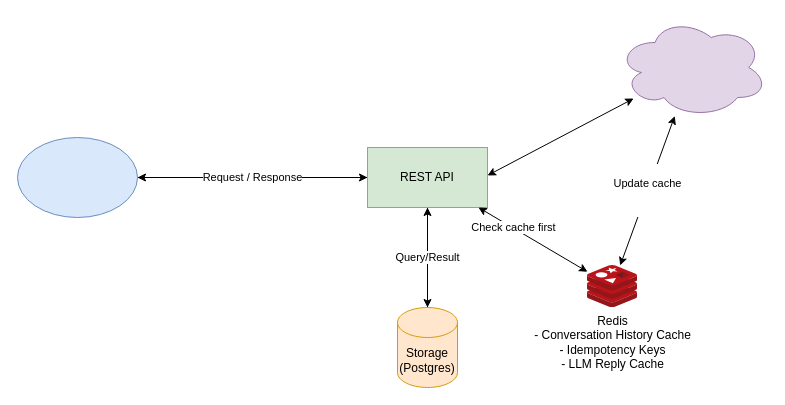
The diagram is 785 pixels wide and 405 high, and some of its shapes have lost their labels. The shapes that lost their labels are listed below. From the top down, each one's centre as x and y in pixels, then its label:
At point 692,67: "LLM Provider (ChatGPT, anthropic)".
At point 77,177: "API consumer (Postman, curl, ...)".
